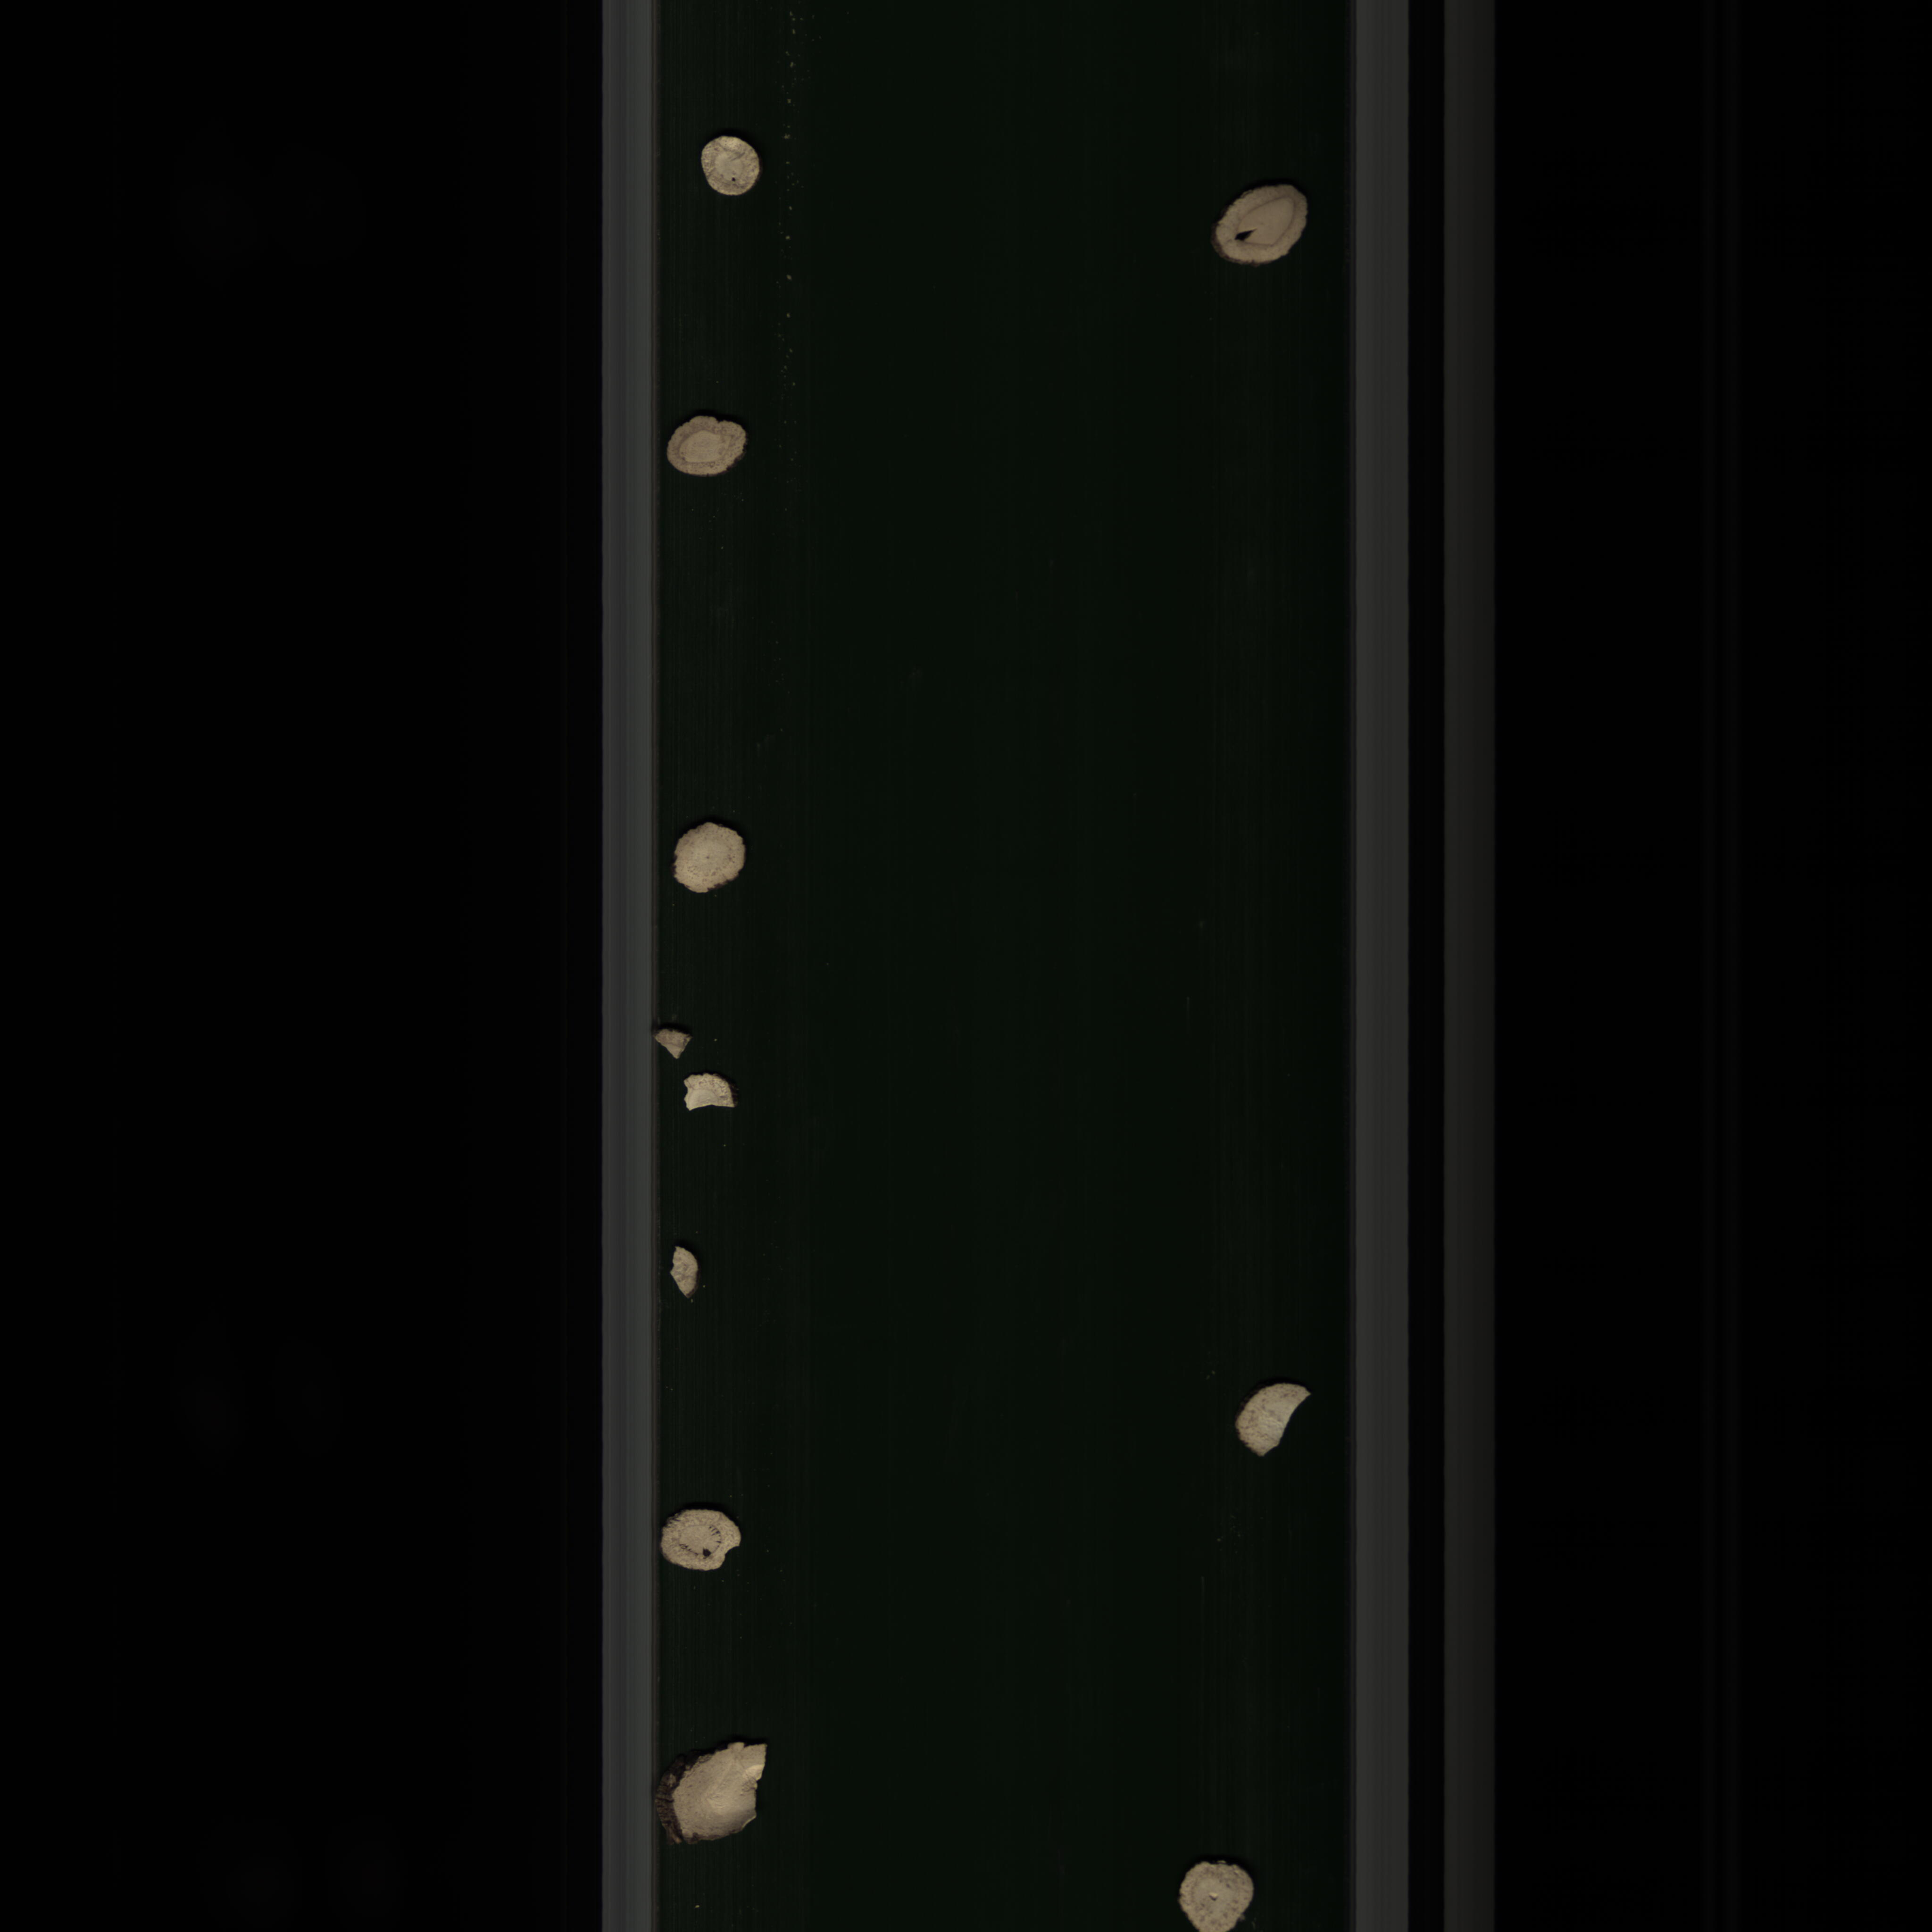debris: (656, 1736, 784, 1847), (1219, 1376, 1327, 1465), (672, 1070, 750, 1120), (663, 1238, 713, 1313), (644, 1019, 695, 1060)
hole: (1210, 172, 1318, 281), (646, 1499, 754, 1589)
